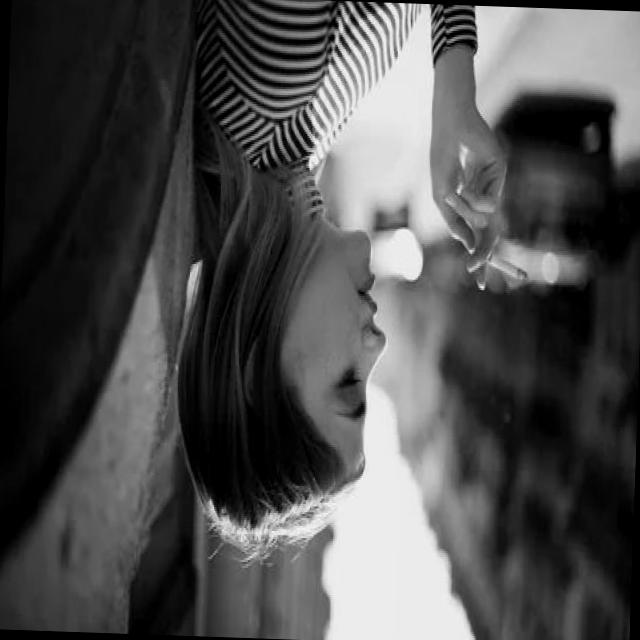cigarette: (476, 243, 528, 290)
